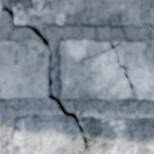brick: (60, 40, 153, 101), (11, 0, 153, 27), (0, 40, 48, 98)
broken_brick: (12, 114, 153, 153)
crack: (0, 2, 88, 151), (74, 41, 133, 90), (26, 0, 33, 9)
